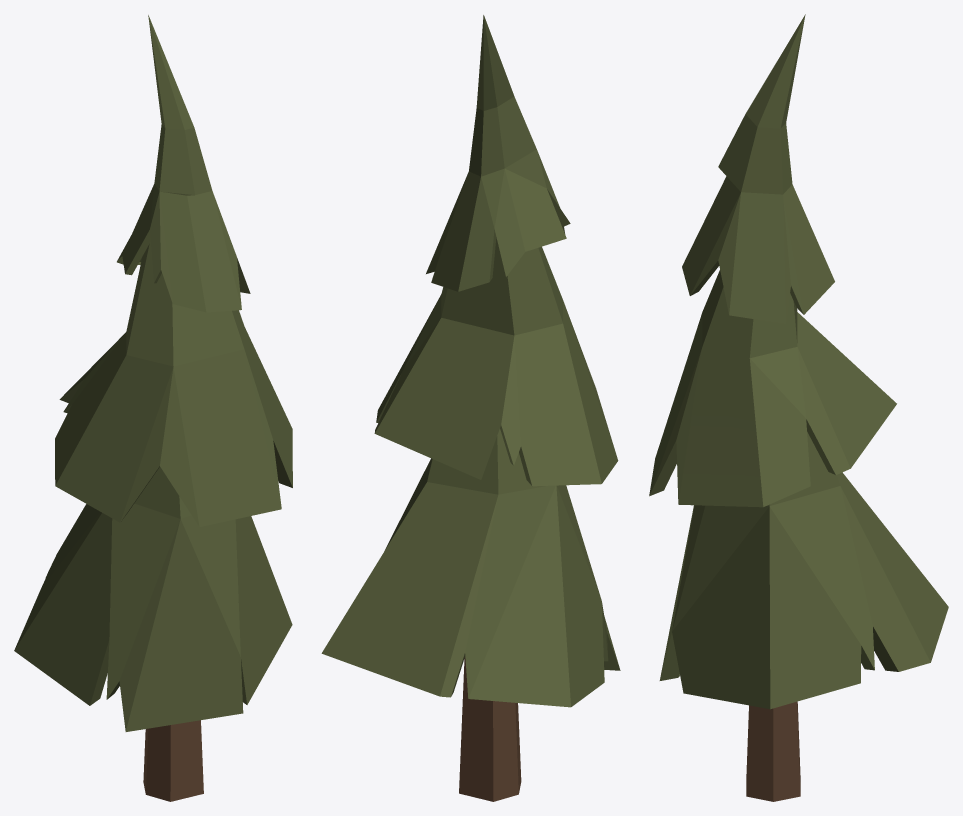
Rendered from FirTree_001.fbx.
The picture shows the model from 3 angles, left to right: view 1: azimuth 30°, elevation 25°; view 2: azimuth 150°, elevation 25°; view 3: azimuth 270°, elevation 25°; orthographic projection. The views are drawn at different scales.
Parts seen in each view (by area): view 1: Cube.007; view 2: Cube.007; view 3: Cube.007.
Part boxes in pixels (x1,y1,x2,y2): Cube.007: (14,15,292,801); Cube.007: (321,15,620,801); Cube.007: (649,14,948,801).
Bounding box in the file's own units: 360 × 1113 × 393.
